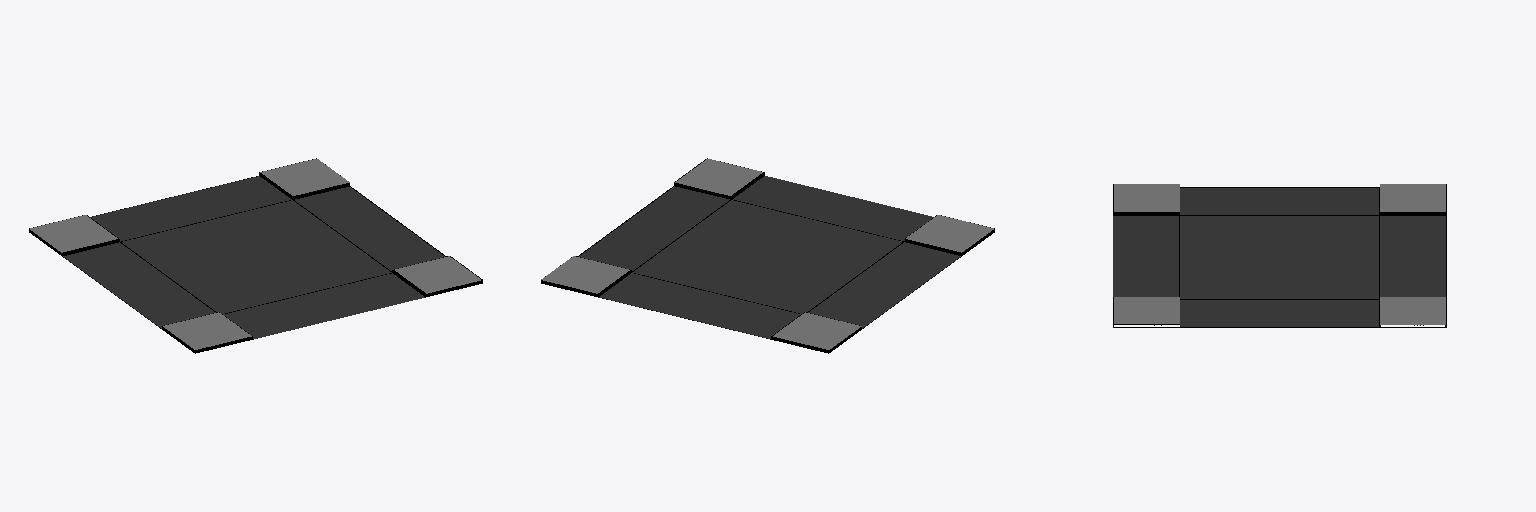
3 views of the same model, side by side, from view 1: azimuth 30°, elevation 25°; view 2: azimuth 150°, elevation 25°; view 3: azimuth 270°, elevation 25° (orthographic).
Visible parts, largest first — view 1: grid1; view 2: grid1; view 3: grid1.
Boxes of the visible parts, x1=… form: grid1: x1=29, y1=158, x2=482, y2=353; grid1: x1=541, y1=158, x2=994, y2=353; grid1: x1=1113, y1=184, x2=1446, y2=327.
Bounding box in the file's own units: 10 × 0.11 × 10.
Materials: 1 (1 with a texture image).